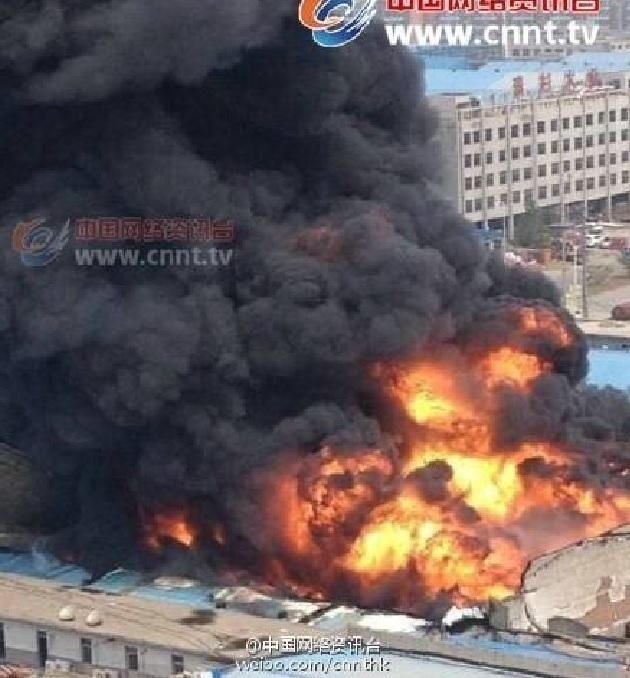fire: (268, 315, 616, 604), (152, 513, 198, 546)
